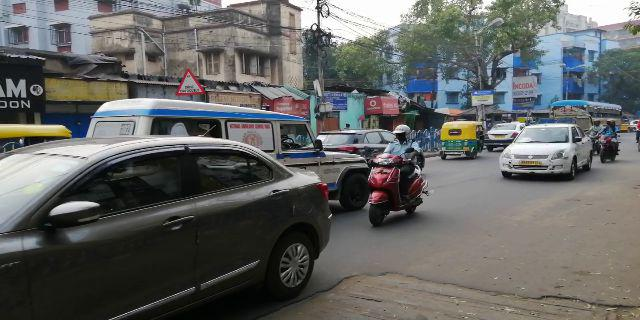Autorickshaw: (436, 114, 486, 163)
Car: (11, 142, 331, 309), (89, 93, 364, 219), (502, 128, 593, 174)
Motorbike: (360, 127, 424, 221)
